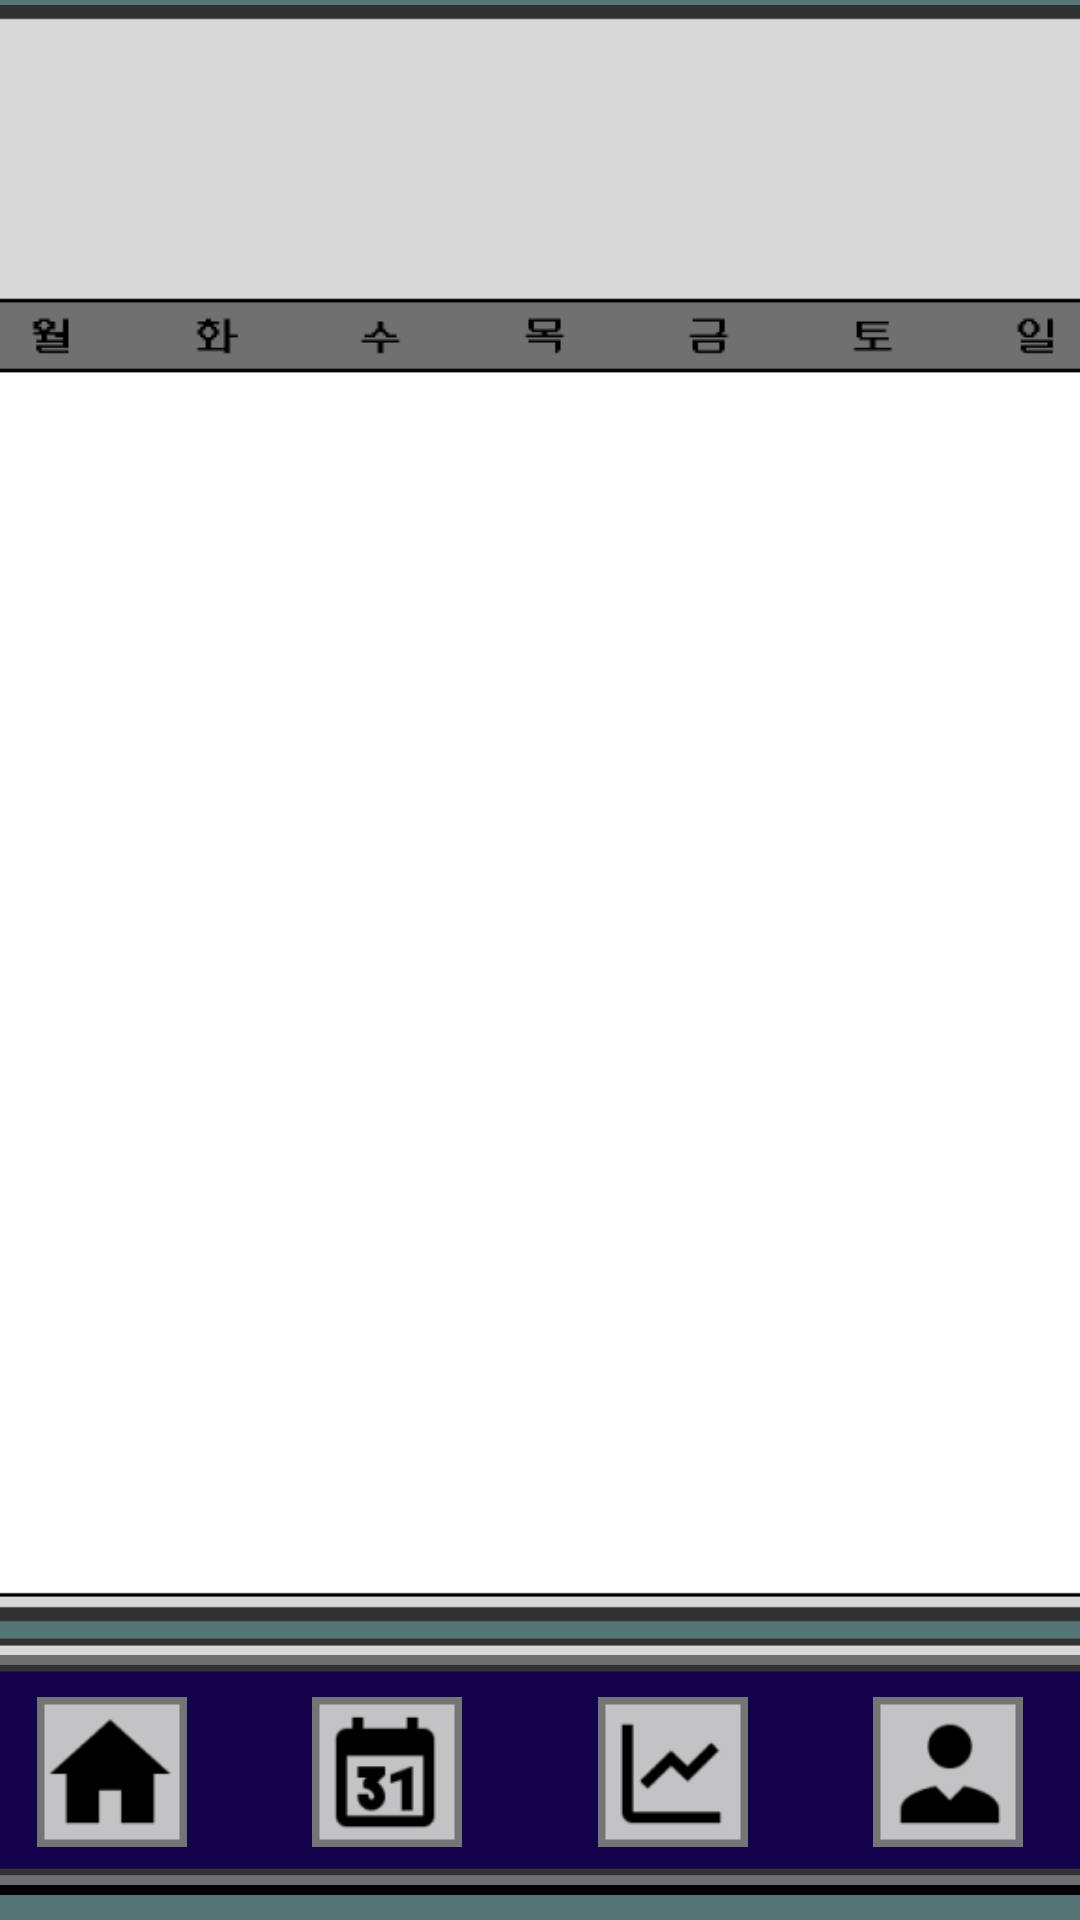

Where to tap for icons on this 1080px x 1920px app screen, as (x,y):
toanaly: (673,1772)
tocalen: (387,1772)
tohome: (112,1772)
touser: (948,1772)
